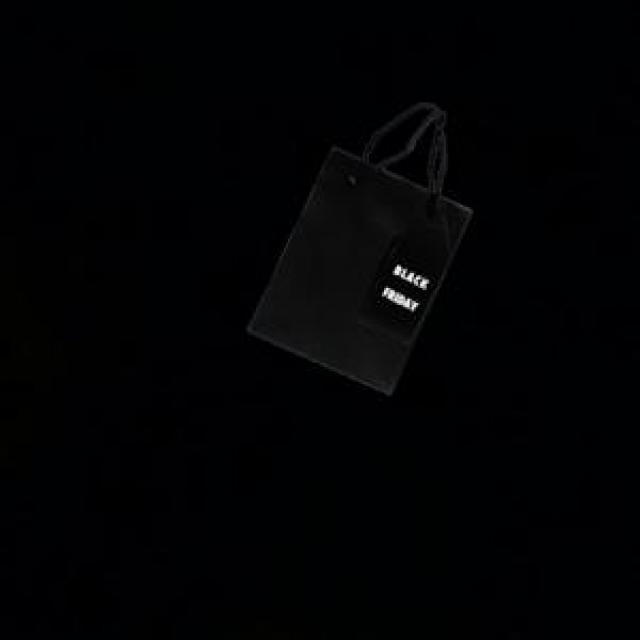Paper -Biodegradable-: (250, 149, 468, 395)
